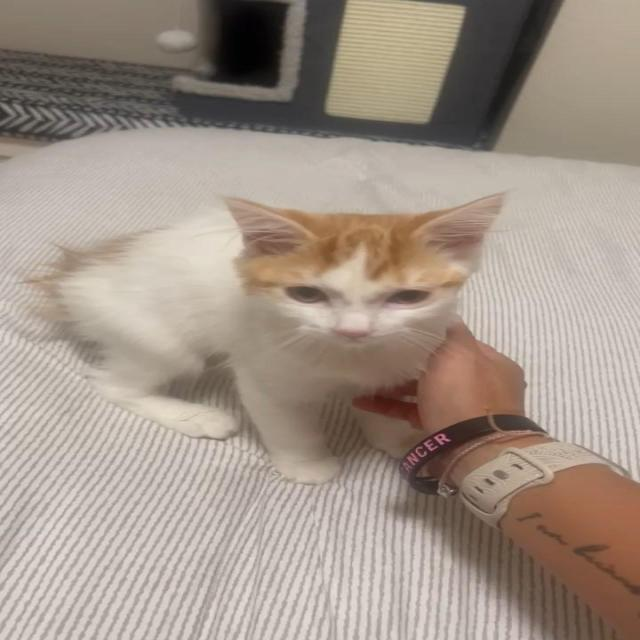manx_cat: (187, 184, 521, 360)
